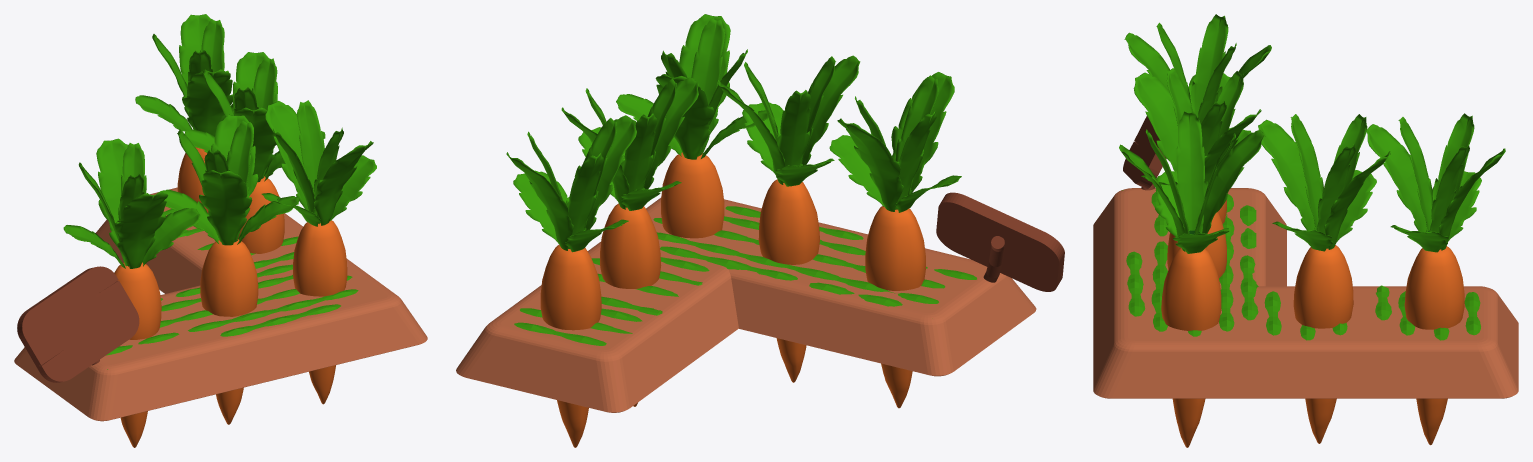
File: 4HavucTarlasi.fbx
3 renders of one model, left to right at view 1: azimuth 30°, elevation 25°; view 2: azimuth 150°, elevation 25°; view 3: azimuth 270°, elevation 25°, orthographic. The views are drawn at different scales.
Parts seen in each view (by area): view 1: Cube.017, Cylinder.005, leaf_1, leaf_1.004, leaf_1.001, leaf_1.003, leaf_1.002, body.004, body.001, Plane.010, body, body.002 (+2 smaller); view 2: Cube.017, leaf_1, leaf_1.003, leaf_1.004, Cylinder.005, leaf_1.001, leaf_1.002, body.003, body, body.004, Plane.010, body.001 (+3 smaller); view 3: Cube.017, leaf_1.002, leaf_1.003, leaf_1.001, leaf_1.004, body.001, body.003, body.002, leaf_1, Plane.010, Plane.006, Plane.011 (+2 smaller).
Part boxes in pixels (x1=…): Cube.017: x1=14, y1=187, x2=427, y2=421; Cylinder.005: x1=17, y1=266, x2=139, y2=382; leaf_1: x1=63, y1=138, x2=200, y2=268; leaf_1.004: x1=161, y1=114, x2=299, y2=245; leaf_1.001: x1=261, y1=100, x2=376, y2=226; leaf_1.003: x1=135, y1=14, x2=233, y2=136; leaf_1.002: x1=184, y1=52, x2=325, y2=182; body.004: x1=200, y1=239, x2=258, y2=424; body.001: x1=293, y1=220, x2=347, y2=404; Plane.010: x1=106, y1=275, x2=358, y2=369; body: x1=114, y1=262, x2=161, y2=447; body.002: x1=238, y1=176, x2=284, y2=253; Cube.017: x1=456, y1=197, x2=1036, y2=412; leaf_1: x1=829, y1=72, x2=961, y2=212; leaf_1.003: x1=506, y1=115, x2=636, y2=252; leaf_1.004: x1=717, y1=55, x2=860, y2=186; Cylinder.005: x1=936, y1=192, x2=1064, y2=291; leaf_1.001: x1=616, y1=14, x2=768, y2=159; leaf_1.002: x1=561, y1=77, x2=698, y2=210; body.003: x1=540, y1=244, x2=601, y2=447; body: x1=865, y1=206, x2=925, y2=408; body.004: x1=758, y1=179, x2=819, y2=382; Plane.010: x1=653, y1=206, x2=976, y2=306; body.001: x1=661, y1=152, x2=724, y2=238; Cube.017: x1=1093, y1=188, x2=1518, y2=398; leaf_1.002: x1=1258, y1=114, x2=1390, y2=251; leaf_1.003: x1=1366, y1=113, x2=1505, y2=252; leaf_1.001: x1=1119, y1=111, x2=1265, y2=253; leaf_1.004: x1=1133, y1=68, x2=1261, y2=185; body.001: x1=1161, y1=230, x2=1221, y2=447; body.003: x1=1404, y1=230, x2=1464, y2=445; body.002: x1=1293, y1=245, x2=1353, y2=443; leaf_1: x1=1124, y1=14, x2=1271, y2=124; Plane.010: x1=1122, y1=190, x2=1256, y2=336; Plane.006: x1=1240, y1=255, x2=1347, y2=340; Plane.011: x1=1375, y1=285, x2=1480, y2=340.
Bounding box in the file's own units: 9.91 × 7.14 × 8.71.
